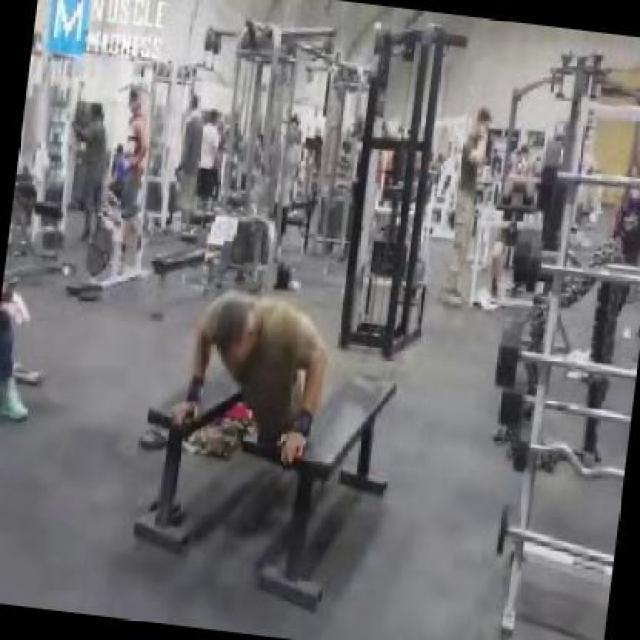non-fight: (170, 281, 338, 474)
